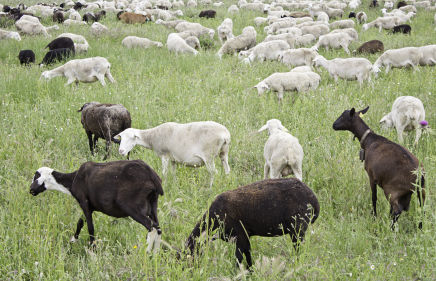sheep: (178, 177, 323, 273), (28, 158, 166, 257), (332, 106, 426, 231), (113, 119, 232, 189), (256, 118, 308, 190), (76, 101, 132, 159), (380, 93, 428, 155), (39, 56, 118, 93), (312, 53, 376, 94), (253, 72, 313, 105), (371, 47, 424, 81), (242, 38, 293, 66), (215, 33, 257, 61), (173, 20, 216, 46), (273, 46, 317, 70), (316, 31, 355, 56), (167, 32, 202, 58), (13, 19, 53, 40), (362, 16, 403, 36), (122, 35, 163, 53), (45, 36, 76, 59), (117, 10, 153, 28), (319, 2, 343, 22), (302, 23, 328, 40), (82, 9, 106, 26), (379, 7, 406, 22), (157, 9, 183, 23), (17, 50, 36, 69), (263, 7, 288, 20)
